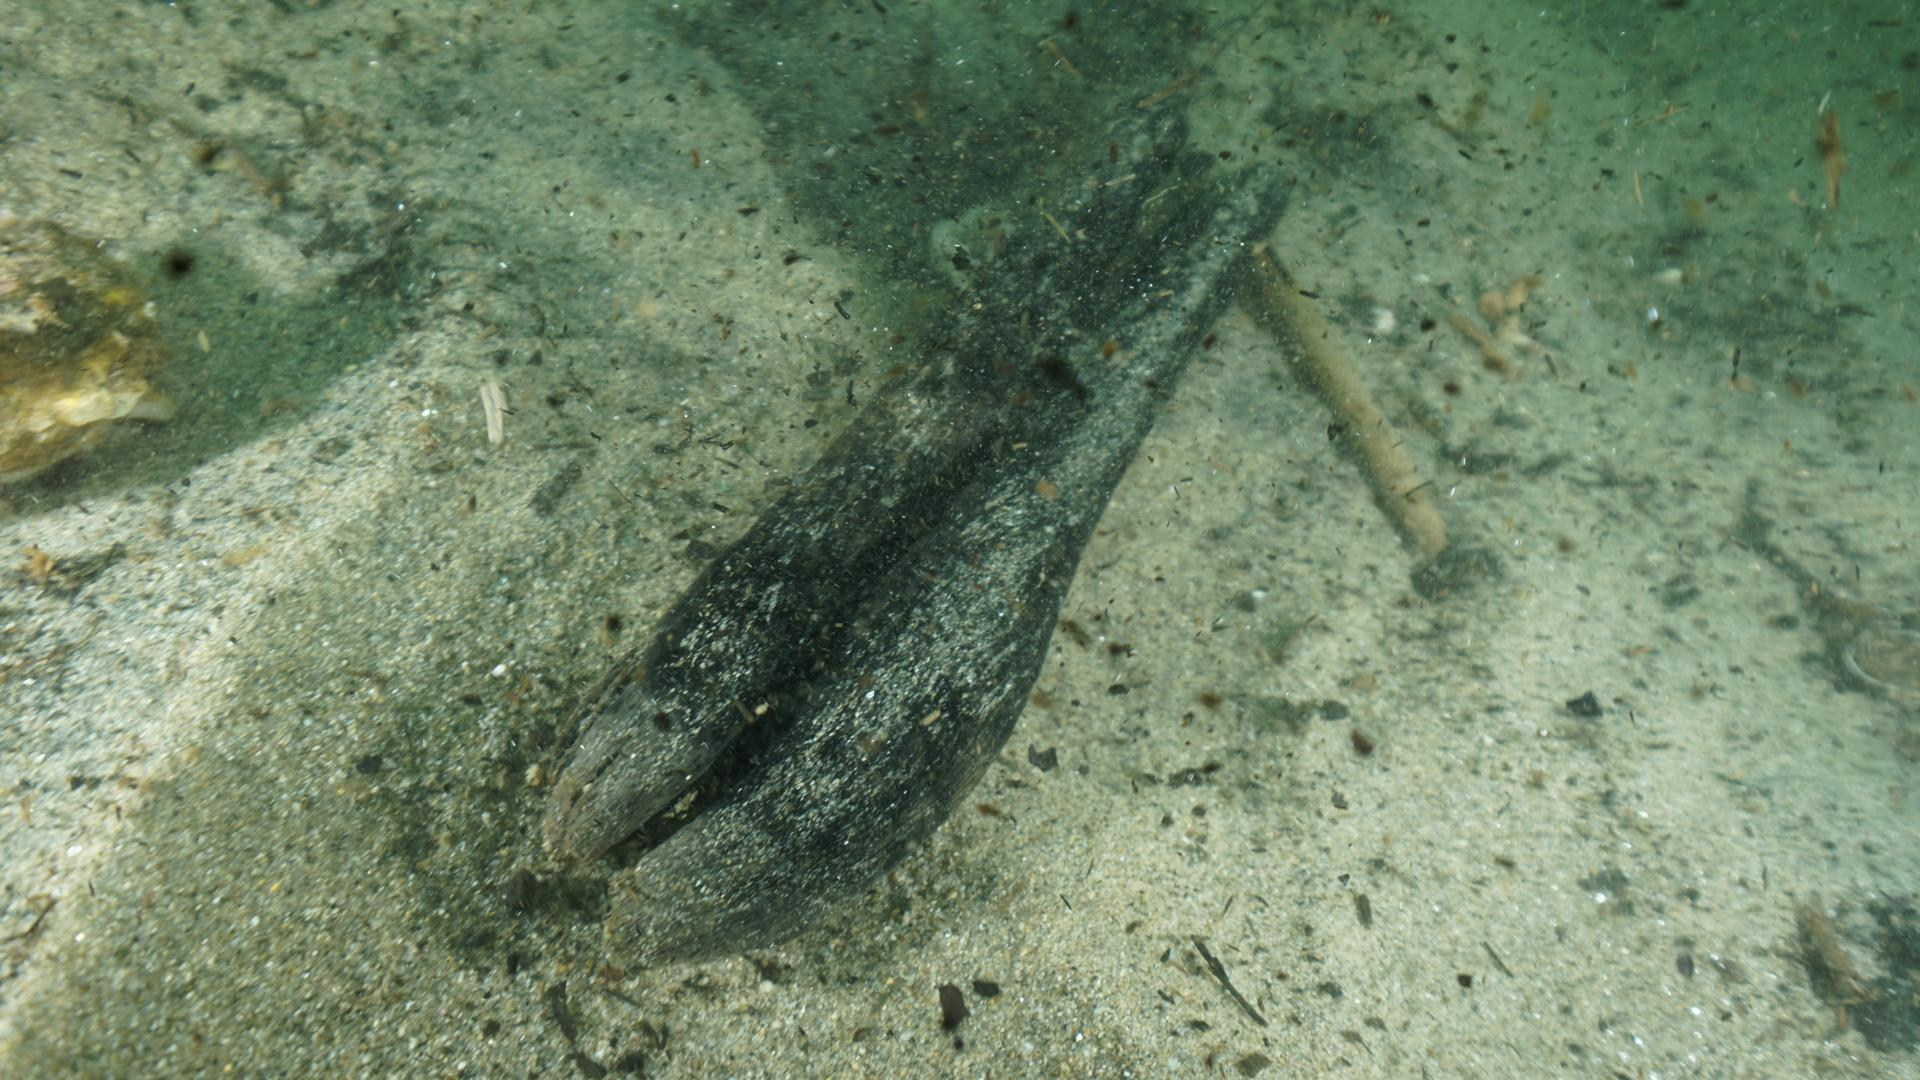wood: (516, 98, 1294, 975), (1253, 252, 1443, 541)
